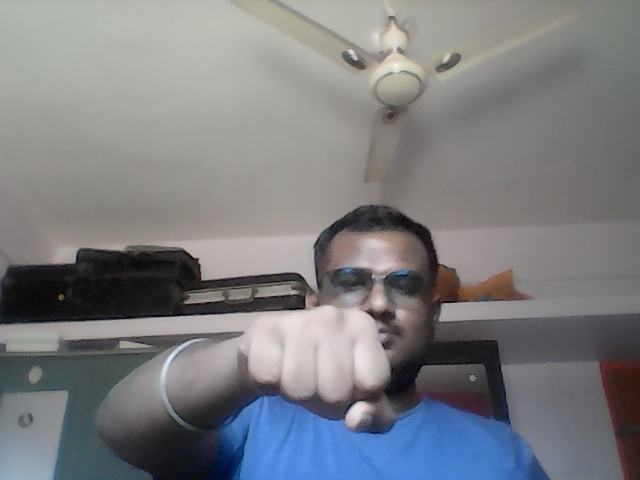Yes: (242, 300, 399, 437)
